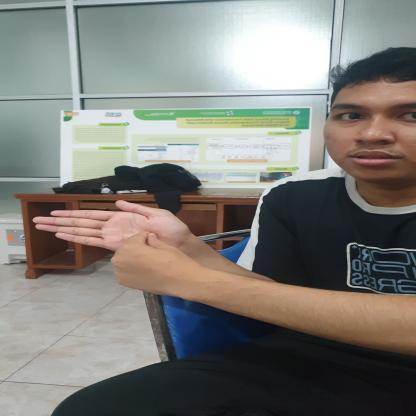Nama: (0, 186, 247, 289)
